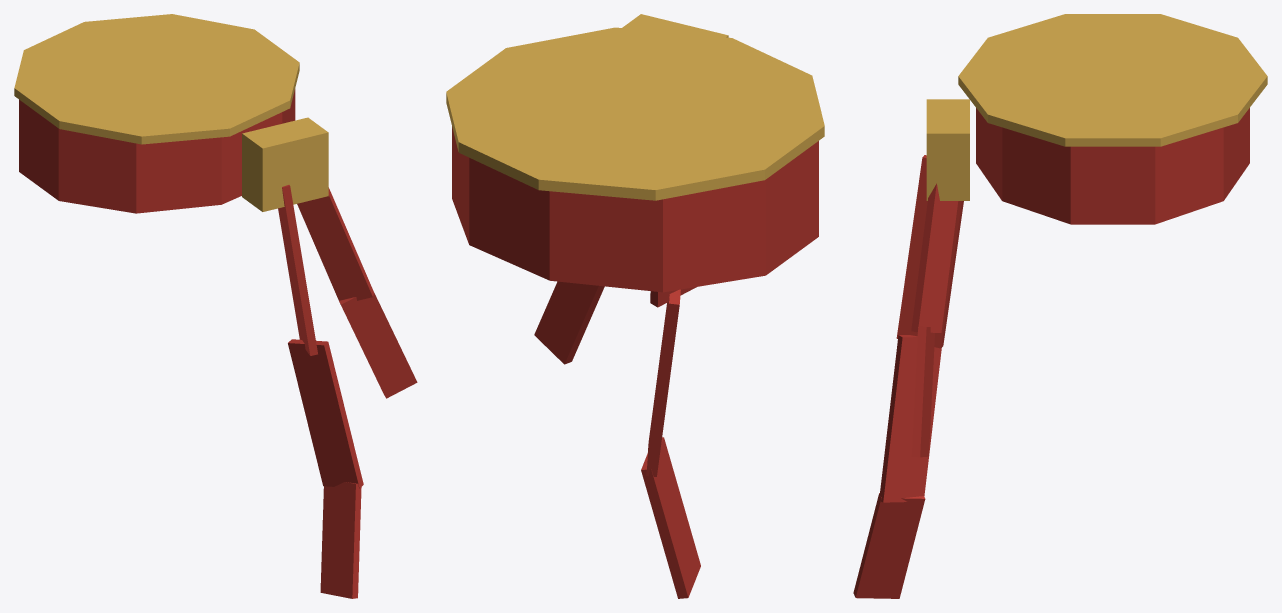
The model's file is gear_tti_t3.glb.
The picture shows the model from 3 angles, left to right: view 1: azimuth 30°, elevation 25°; view 2: azimuth 150°, elevation 25°; view 3: azimuth 270°, elevation 25°; orthographic projection. The views are drawn at different scales.
Parts seen in each view (by area): view 1: gear_tti_t3; view 2: gear_tti_t3; view 3: gear_tti_t3.
Part boxes in pixels (bbox=[...]): gear_tti_t3: bbox=[14, 14, 417, 598]; gear_tti_t3: bbox=[446, 14, 824, 598]; gear_tti_t3: bbox=[853, 14, 1267, 598].
Bounding box in the file's own units: 0.5667 × 0.866 × 0.667.
